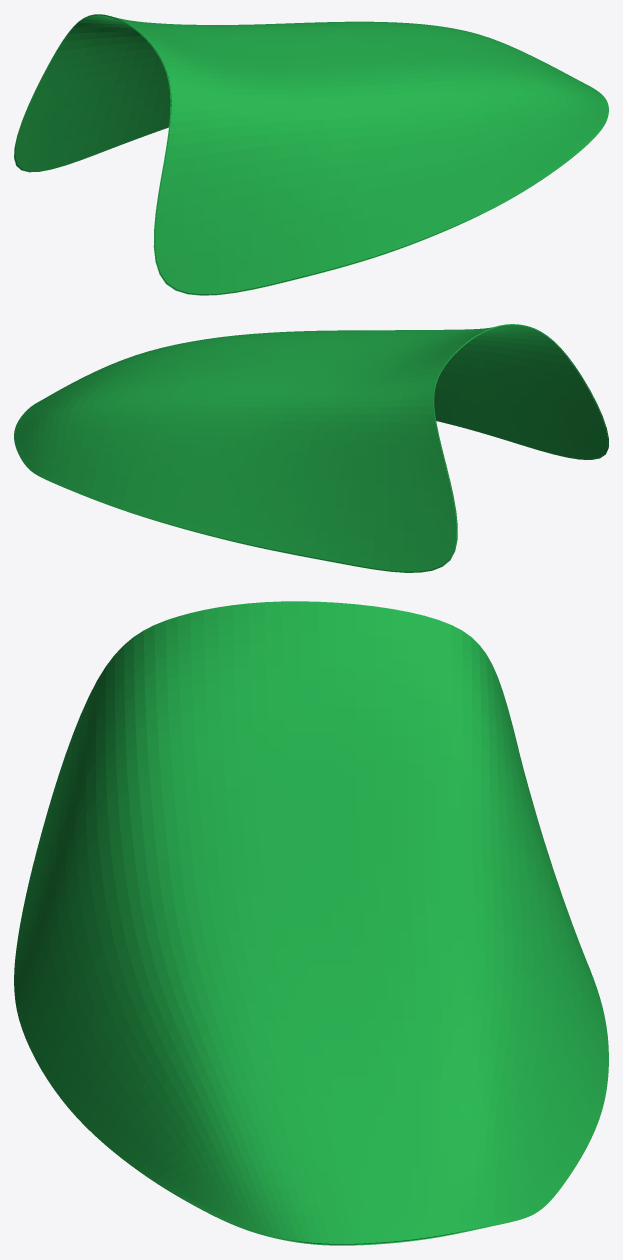
The model's file is frontRightGreen.obj.
3 renders of one model, top to bottom at view 1: azimuth 30°, elevation 25°; view 2: azimuth 150°, elevation 25°; view 3: azimuth 270°, elevation 25°, orthographic. The views are drawn at different scales.
Visible parts, largest first — view 1: Plane; view 2: Plane; view 3: Plane.
Boxes of the visible parts, x1=… form: Plane: x1=14, y1=14, x2=608, y2=295; Plane: x1=14, y1=324, x2=608, y2=572; Plane: x1=14, y1=601, x2=608, y2=1245.
Size of the model in its own units: 14.6 by 5.14 by 9.
Materials: 1 (1 with a texture image).
